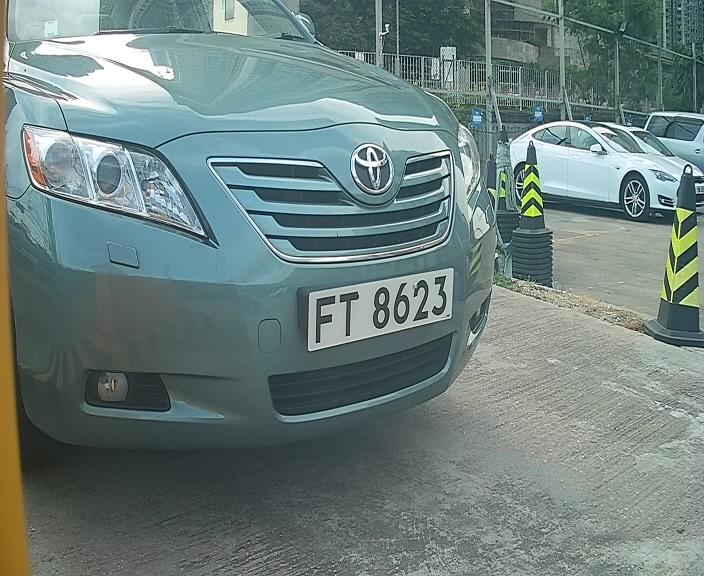License Plate: (296, 258, 459, 355)
